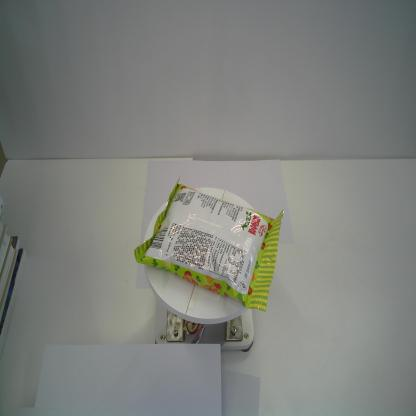Puffed Food: (132, 175, 284, 314)
